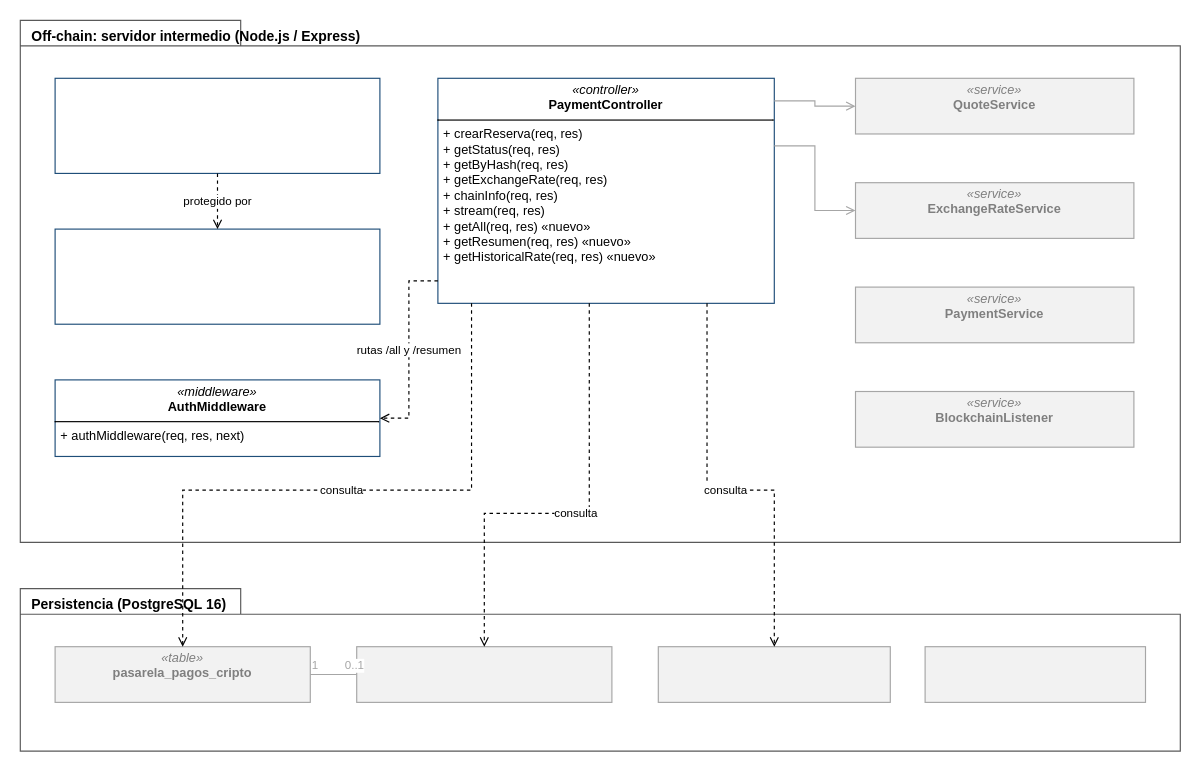
The diagram is 1201 pixels wide and 771 high, and some of its shapes have lost their labels. Each missing label, with the centre of its shape:
«controller» AuthController + login(req, res) - iguales(a, b) : bool: (x=217, y=125)
«middleware» LoginRateLimit - registroDe(ip) + limitarLogin(req, res, next): (x=217, y=276)
«table» estado_listener: (x=1035, y=674)
«table» tipos_cambio: (x=773, y=674)
«table» transacciones_blockchain: (x=484, y=674)
